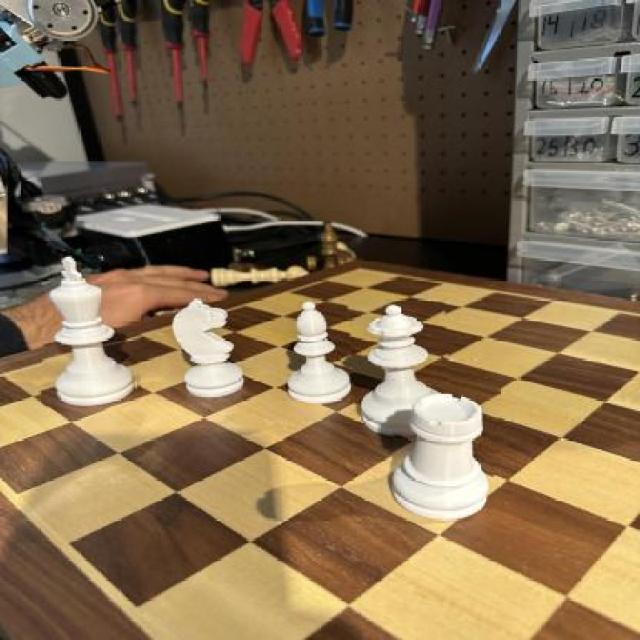black-rook: (276, 297, 358, 411)
white-bishop: (42, 254, 143, 409)
white-king: (172, 292, 250, 403)
white-pawn: (351, 298, 453, 446)
white-queen: (389, 386, 498, 519)
